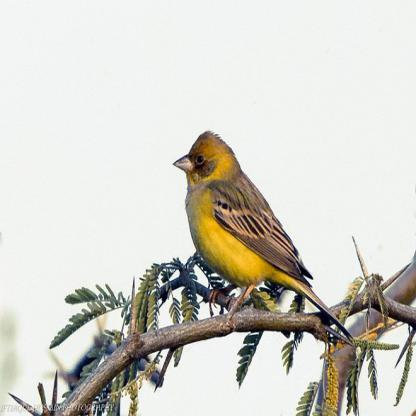Burung: (170, 131, 354, 345)
